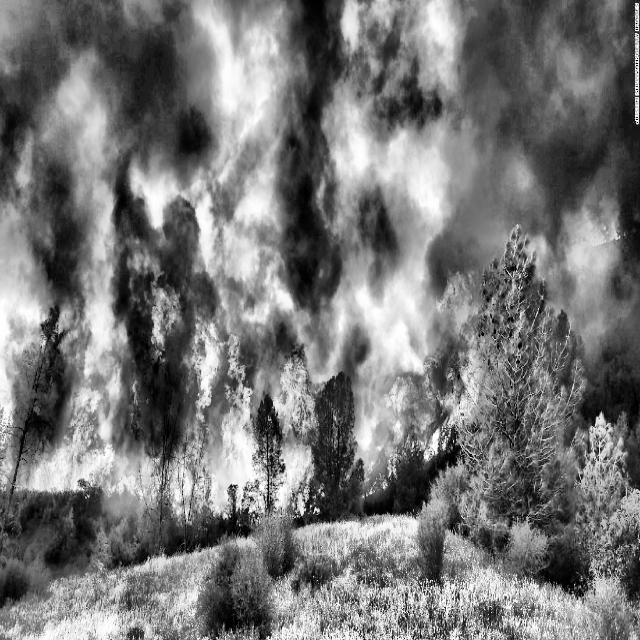fire: (15, 235, 530, 596)
